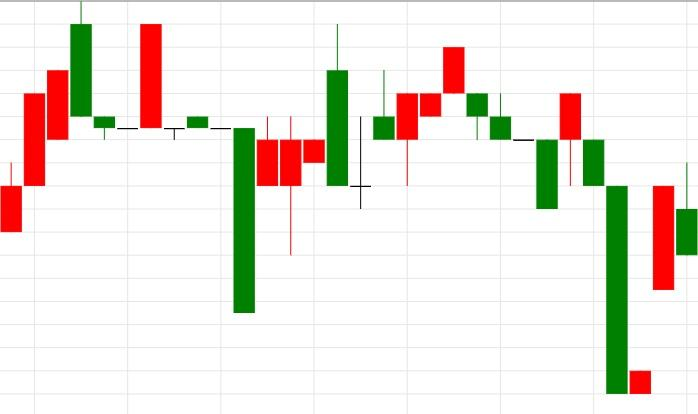bearish_engulfing_fall: (233, 24, 349, 313)
